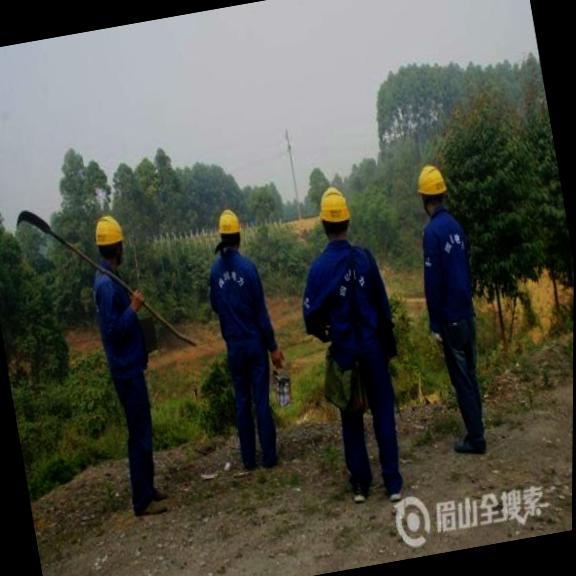no_safety_vest: (287, 232, 404, 378), (83, 251, 155, 384), (408, 204, 484, 326), (201, 243, 276, 354)
